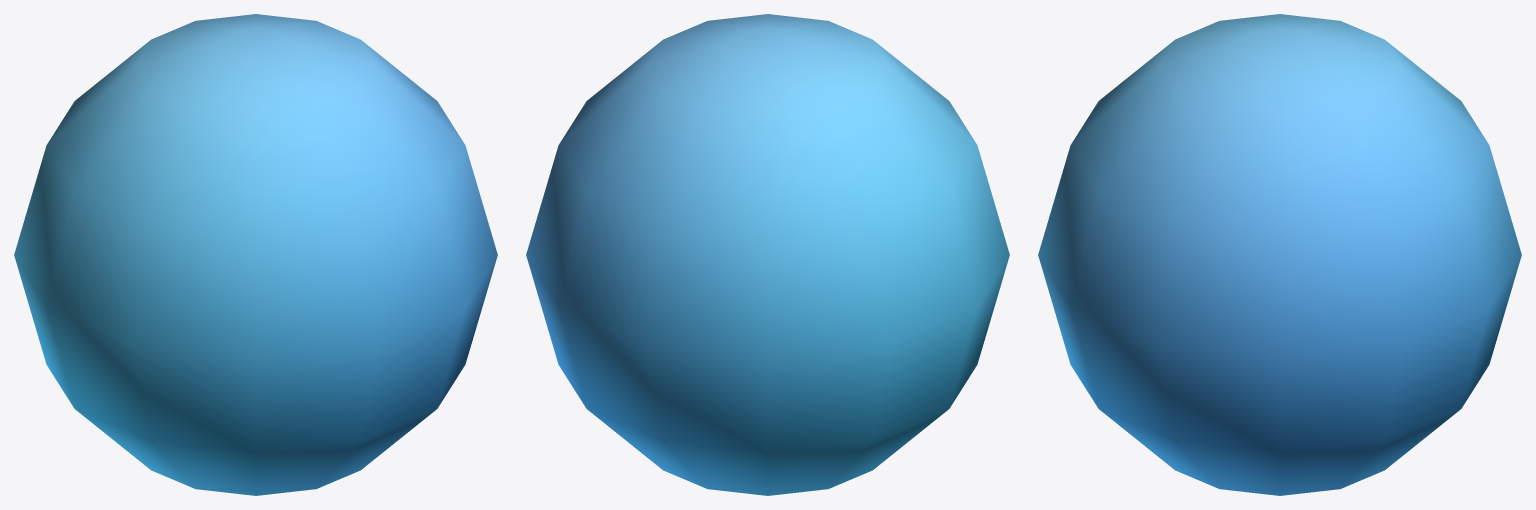
The model's file is Volleyball_E.fbx.
3 views of the same model, side by side, from view 1: azimuth 30°, elevation 25°; view 2: azimuth 150°, elevation 25°; view 3: azimuth 270°, elevation 25° (orthographic).
Parts seen in each view (by area): view 1: Volleyball_E; view 2: Volleyball_E; view 3: Volleyball_E.
Boxes of the visible parts, box(x1,y1,x2,y2) form: Volleyball_E: box(14, 14, 497, 495); Volleyball_E: box(526, 14, 1009, 495); Volleyball_E: box(1038, 14, 1521, 495).
Size of the model in its own units: 33.6 by 32.1 by 33.6.
